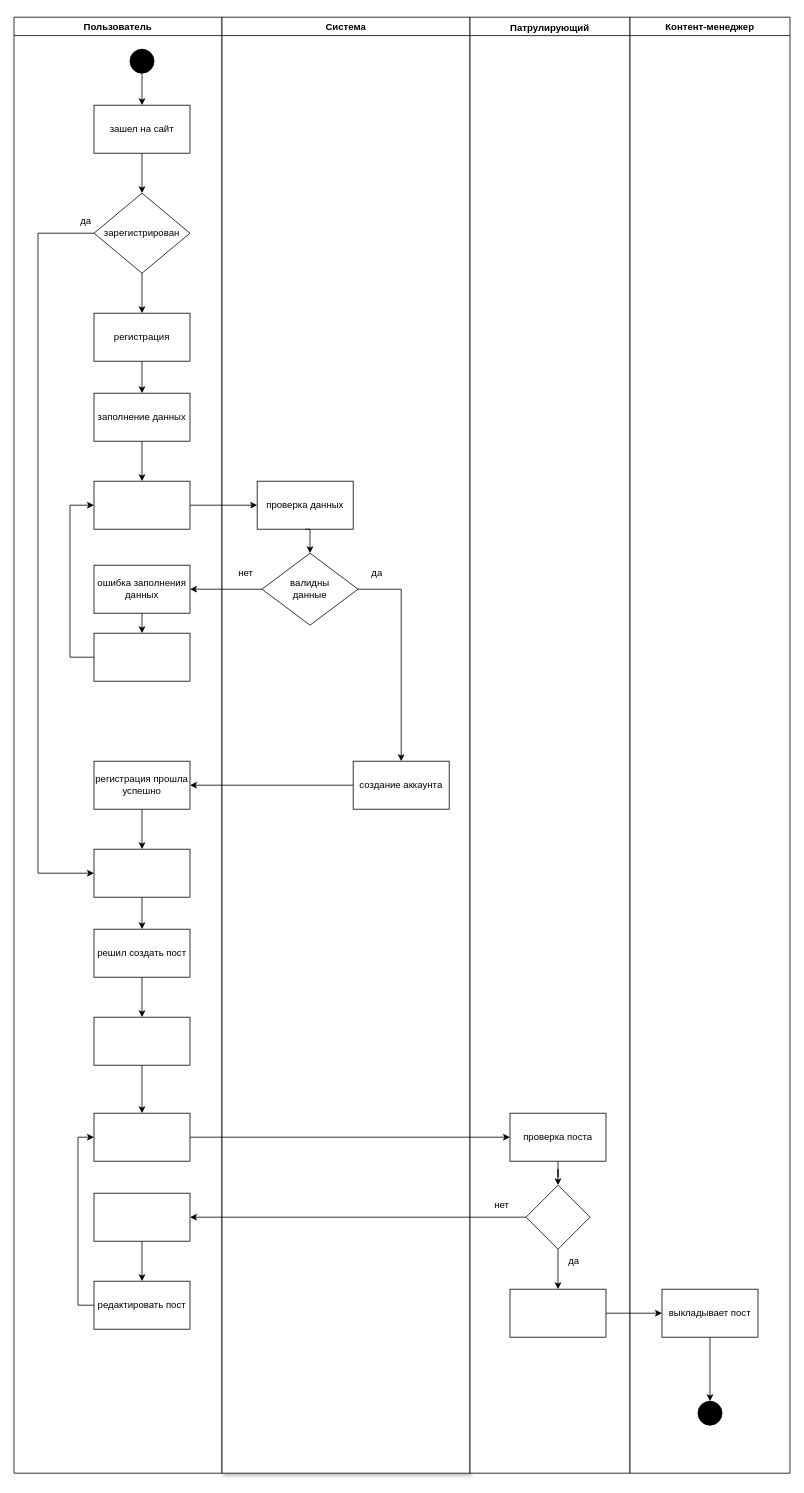
The diagram is 804 pixels wide and 1493 high, and some of its shapes have lost their labels. Here are the shapes that lost their labels. From the top down, the centre of each, then its label:
At pixel 141 504: "отправка данных".
At pixel 141 656: "редактирование данных".
At pixel 141 872: "авторизация".
At pixel 141 1040: "Создал пост".
At pixel 141 1136: "отправить на проверку".
At pixel 141 1216: "пост не одобрен".
At pixel 557 1216: "прошел проверку".
At pixel 557 1312: "пост одобрен".
